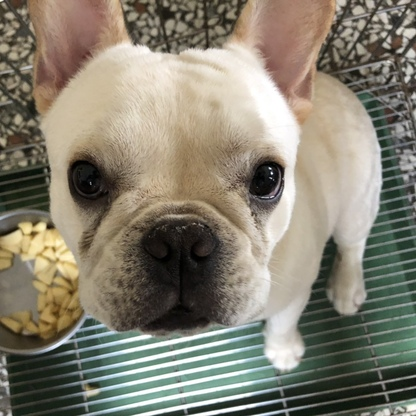bulldog: (19, 2, 384, 377)
